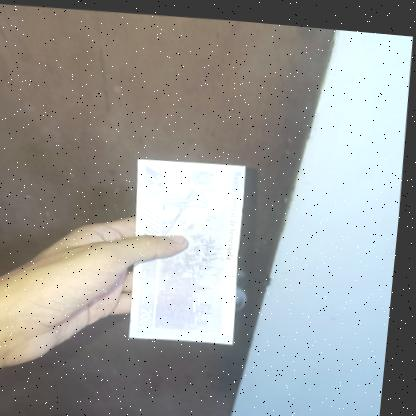two_hundred-back-vef: (125, 151, 253, 342)
